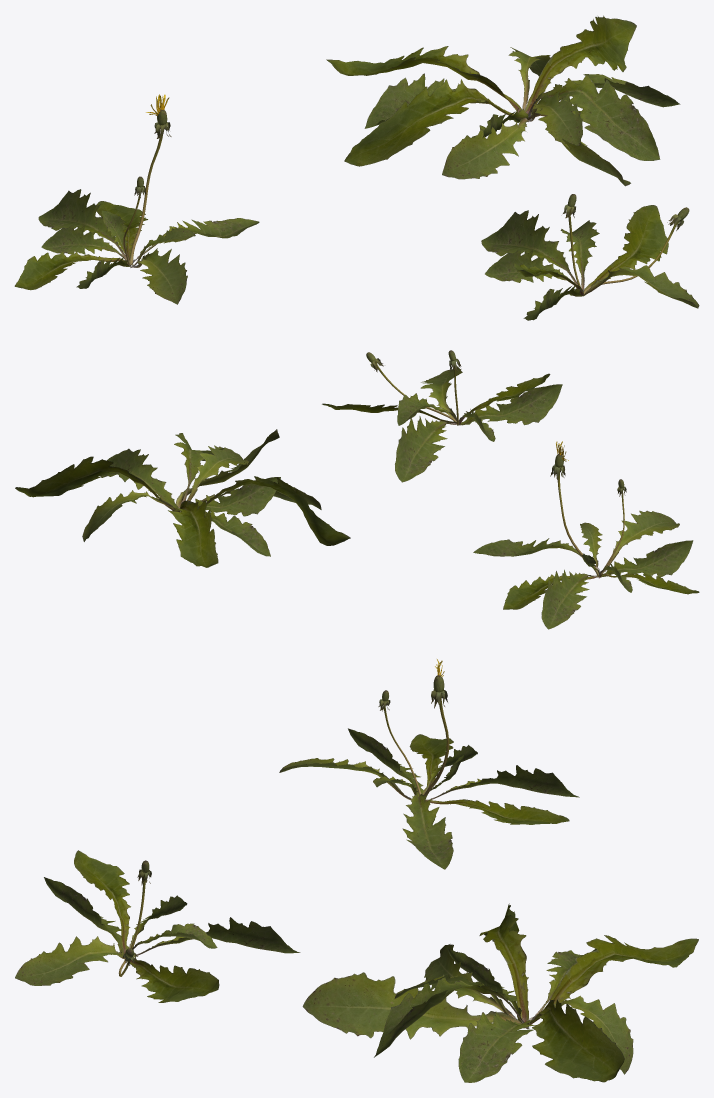
Rendered from cc0_dandelion_a.glb.
3 renders of one model, top to bottom at view 1: azimuth 30°, elevation 25°; view 2: azimuth 150°, elevation 25°; view 3: azimuth 270°, elevation 25°, orthographic. The views are drawn at different scales.
Parts seen in each view (by area): view 1: cc0_dandelion_a; view 2: cc0_dandelion_a; view 3: cc0_dandelion_a.
Boxes of the visible parts, x1=… form: cc0_dandelion_a: x1=14, y1=15, x2=699, y2=320; cc0_dandelion_a: x1=15, y1=350, x2=699, y2=629; cc0_dandelion_a: x1=15, y1=659, x2=698, y2=1082.
Size of the model in its own units: 0.5791 by 0.1315 by 0.4627.
Materials: 1 (1 with a texture image).
